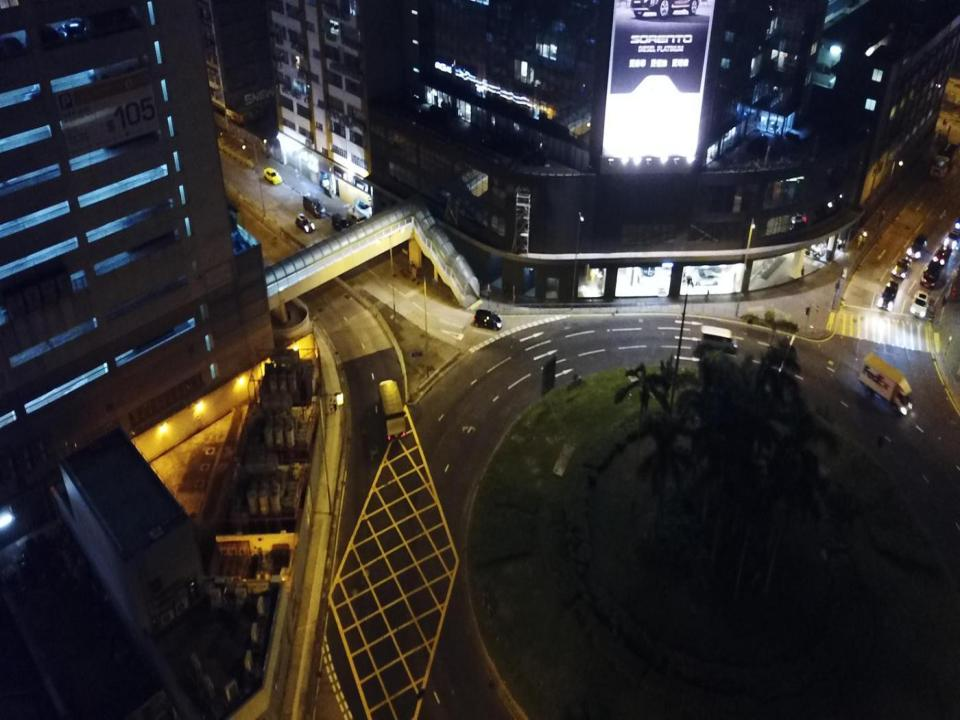car: (474, 308, 502, 330), (910, 290, 929, 319), (906, 233, 927, 259), (943, 220, 960, 248), (892, 258, 910, 280), (934, 244, 952, 265), (295, 215, 314, 234), (264, 167, 282, 186)
truck: (858, 352, 913, 416), (379, 379, 406, 440)
van: (701, 326, 738, 352), (920, 256, 938, 290), (879, 280, 898, 312), (303, 195, 326, 219), (346, 207, 366, 233), (331, 213, 350, 234)
